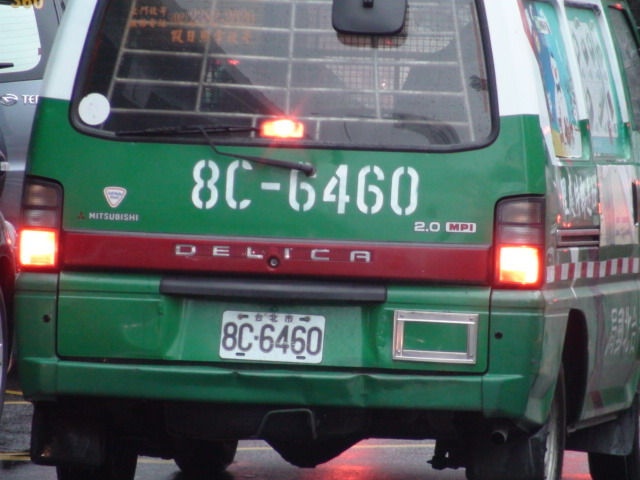plate: (217, 306, 329, 369)
